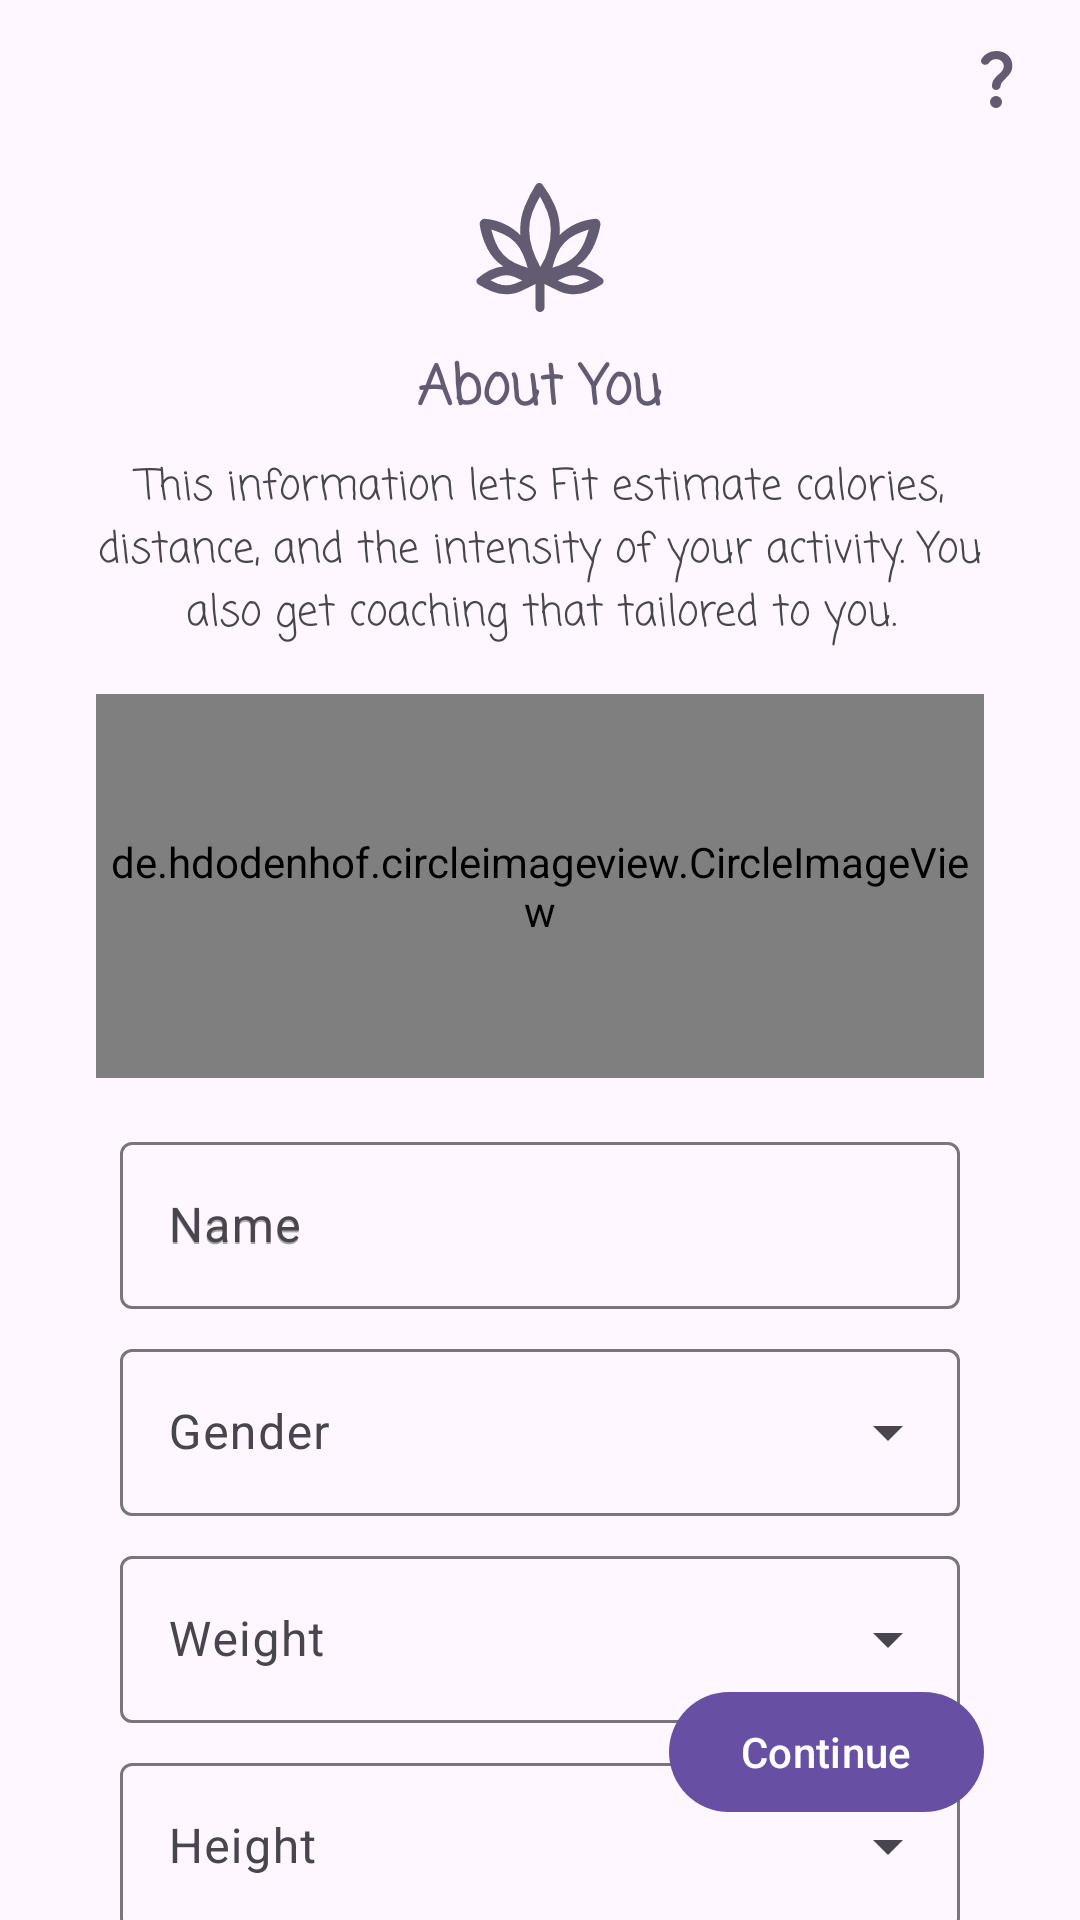

Where icons sit on this 1080x1920 app screen, as (x1, y1, x2, y2):
cannabis: (476, 183, 604, 312)
question mark: (981, 51, 1013, 108)
